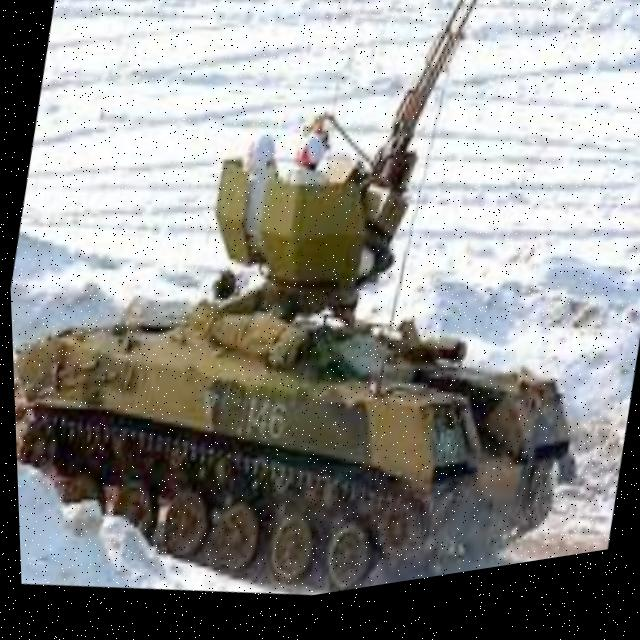MIL_APC: (5, 97, 629, 640)
